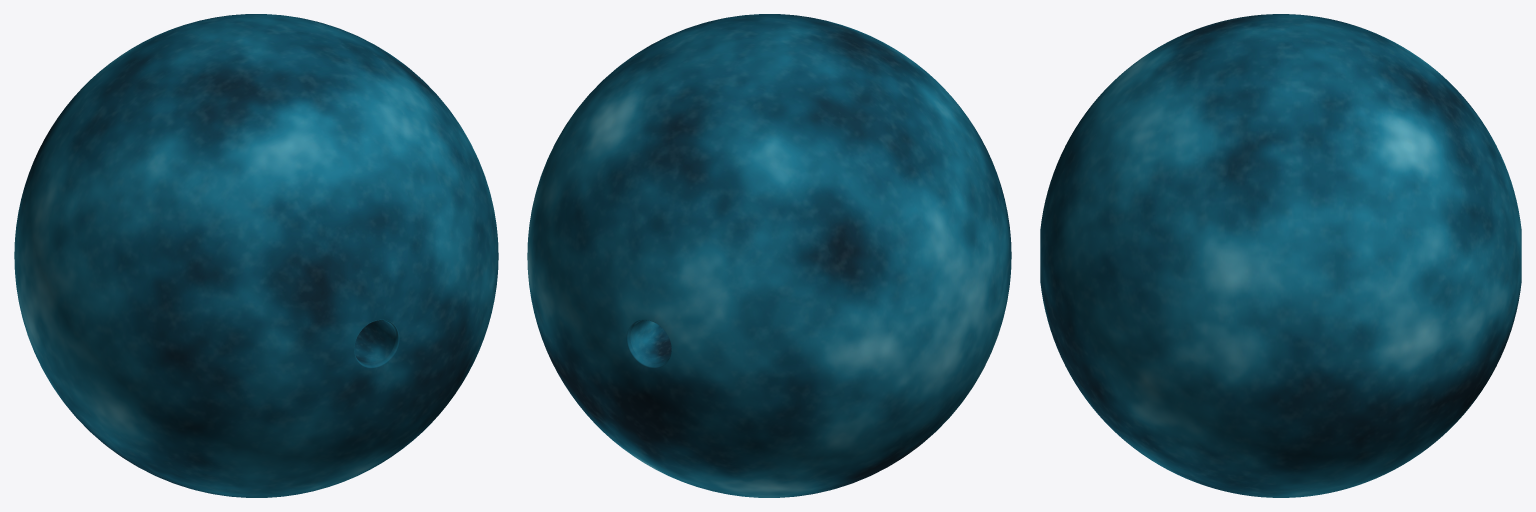
Rendered from blue-apatite-10mm.glb.
The picture shows the model from 3 angles, left to right: view 1: azimuth 30°, elevation 25°; view 2: azimuth 150°, elevation 25°; view 3: azimuth 270°, elevation 25°; orthographic projection.
Parts seen in each view (by area): view 1: blue-apatite.001; view 2: blue-apatite.001; view 3: blue-apatite.001.
Part boxes in pixels (x1,y1,x2,y2): blue-apatite.001: (14,14,498,497); blue-apatite.001: (527,14,1011,497); blue-apatite.001: (1040,14,1521,497).
Bounding box in the file's own units: 0.01 × 0.01 × 0.00994.
2 materials, 1 textured.
